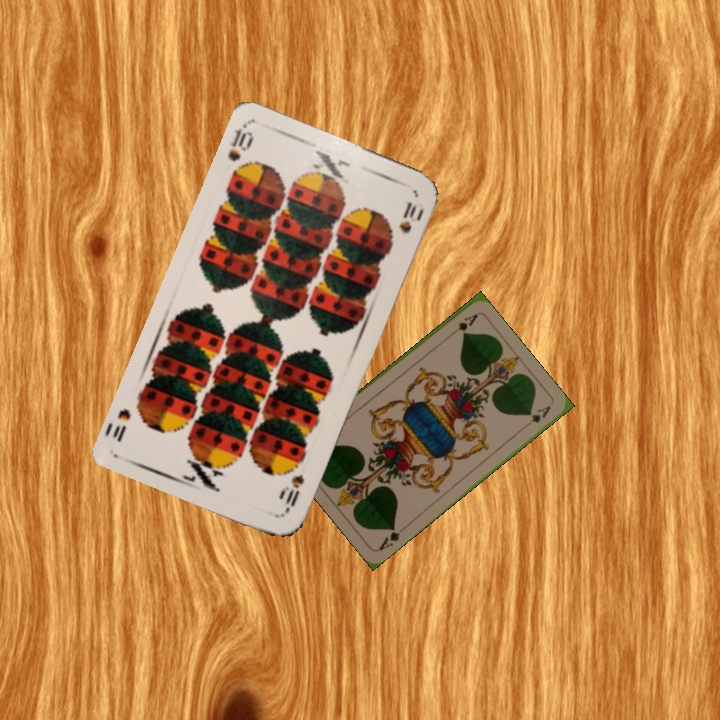GA: (375, 522, 409, 553), (445, 310, 480, 340)
S10: (277, 470, 308, 516), (224, 121, 256, 164)
